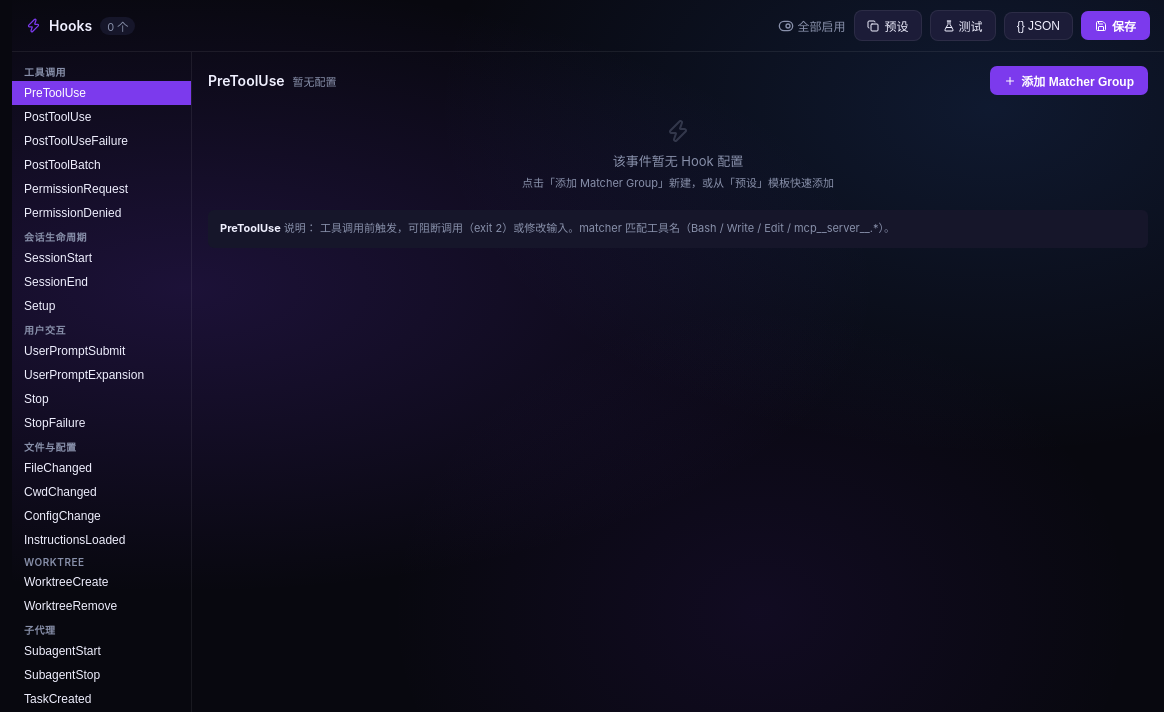
Test case: HooksPanel - 禁用切换 › 已禁用状态可再次点击恢复
This screenshot has width=1164, height=712.
What coordinates should you click on to do the following:
click the button "全部启用"
I would click on:
 (812, 26)
Its box is [778,17,846,34].
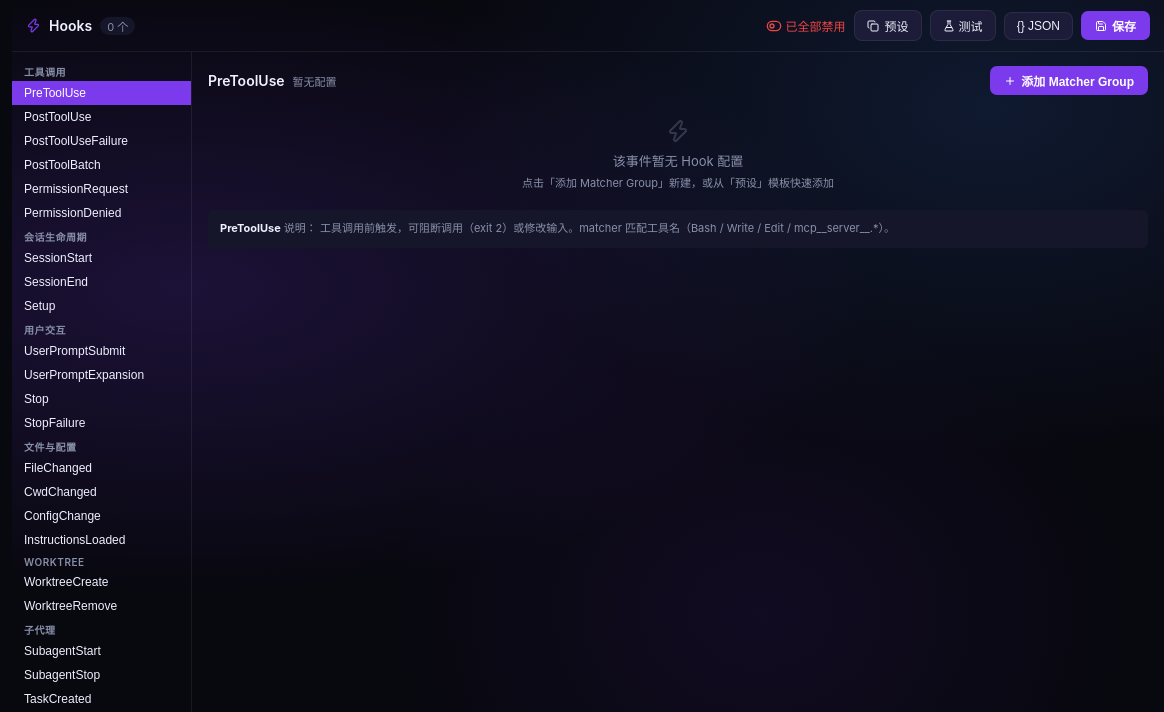
What coordinates should you click on to do the following:
click the button "已全部禁用"
I would click on:
 (806, 26)
Its box is [766,17,846,34].
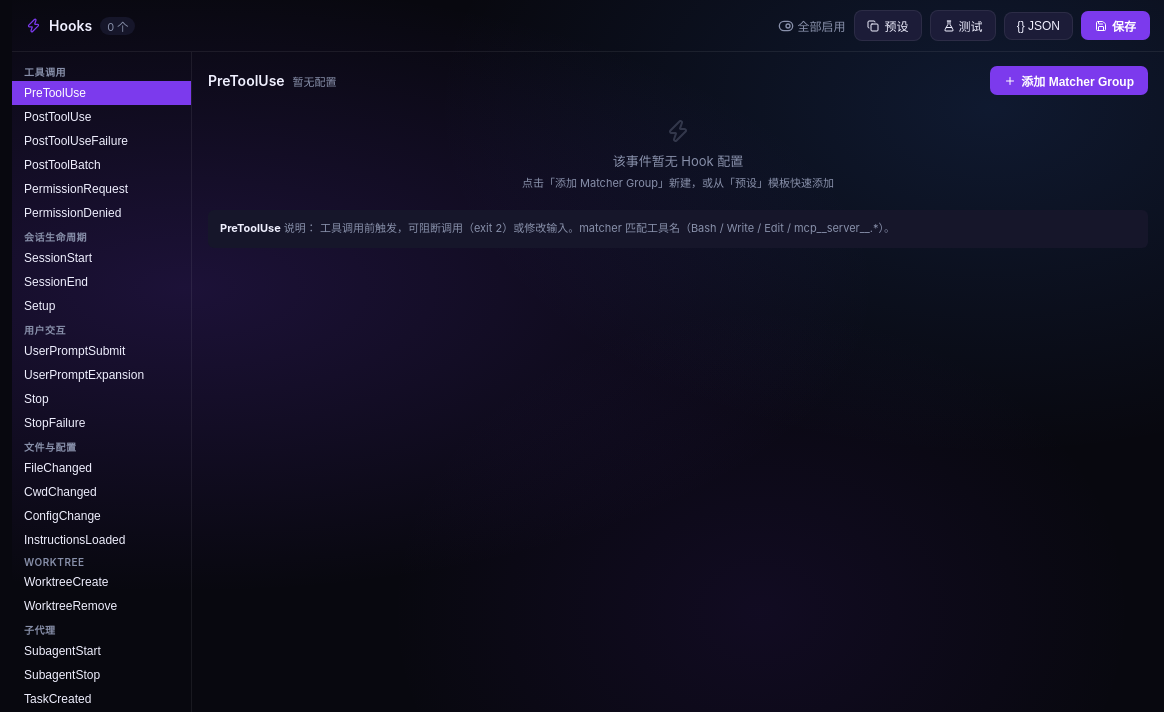
Expected: the button "全部启用" is shown, [778,17,846,34]
